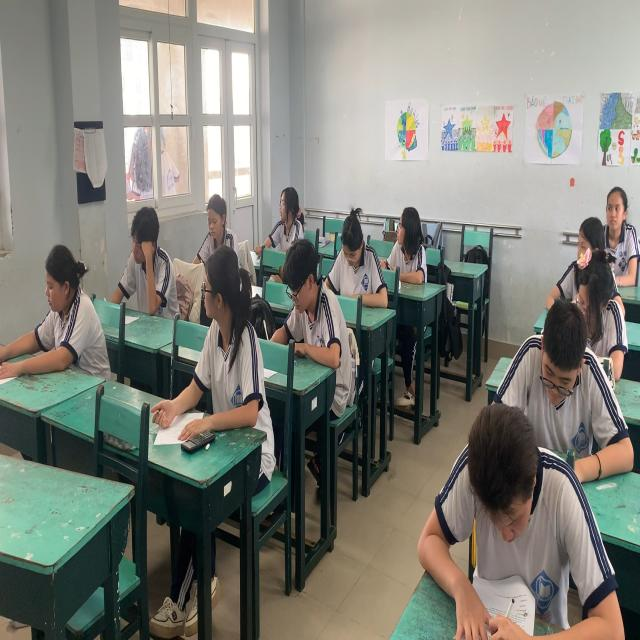cheating: (195, 243, 263, 439), (382, 202, 428, 288), (259, 178, 309, 239)
not_cheating: (452, 402, 576, 630), (524, 294, 603, 485), (32, 246, 98, 374), (280, 233, 336, 367), (119, 199, 178, 319), (574, 250, 624, 374), (328, 216, 380, 302), (605, 188, 640, 288), (197, 190, 234, 252)
